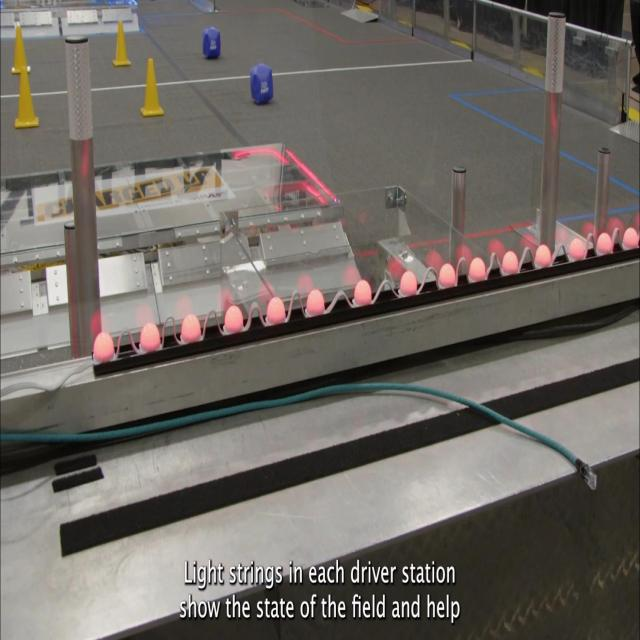frc_cone: (12, 66, 38, 129), (141, 59, 165, 116), (10, 22, 32, 76), (111, 19, 132, 68)
frc_cube: (250, 63, 274, 106), (202, 26, 223, 61)
